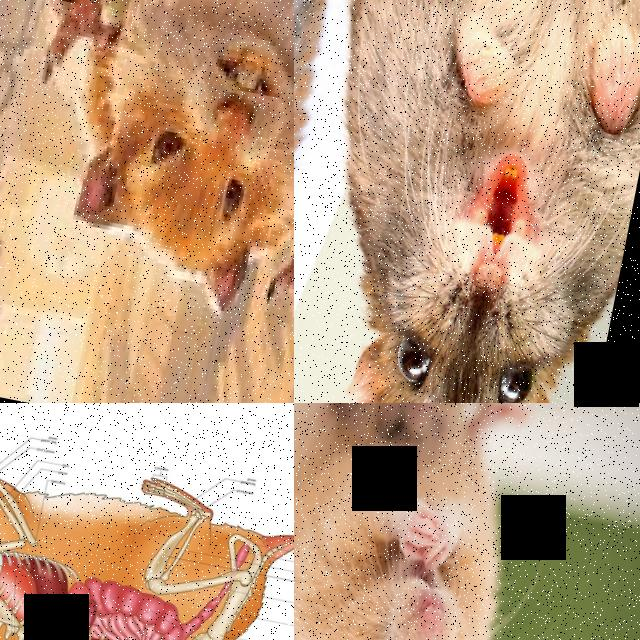hamster: (294, 0, 640, 403), (0, 0, 294, 344), (0, 407, 294, 640), (294, 403, 551, 640)
